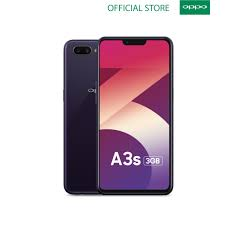oppo: (64, 35, 175, 195)
